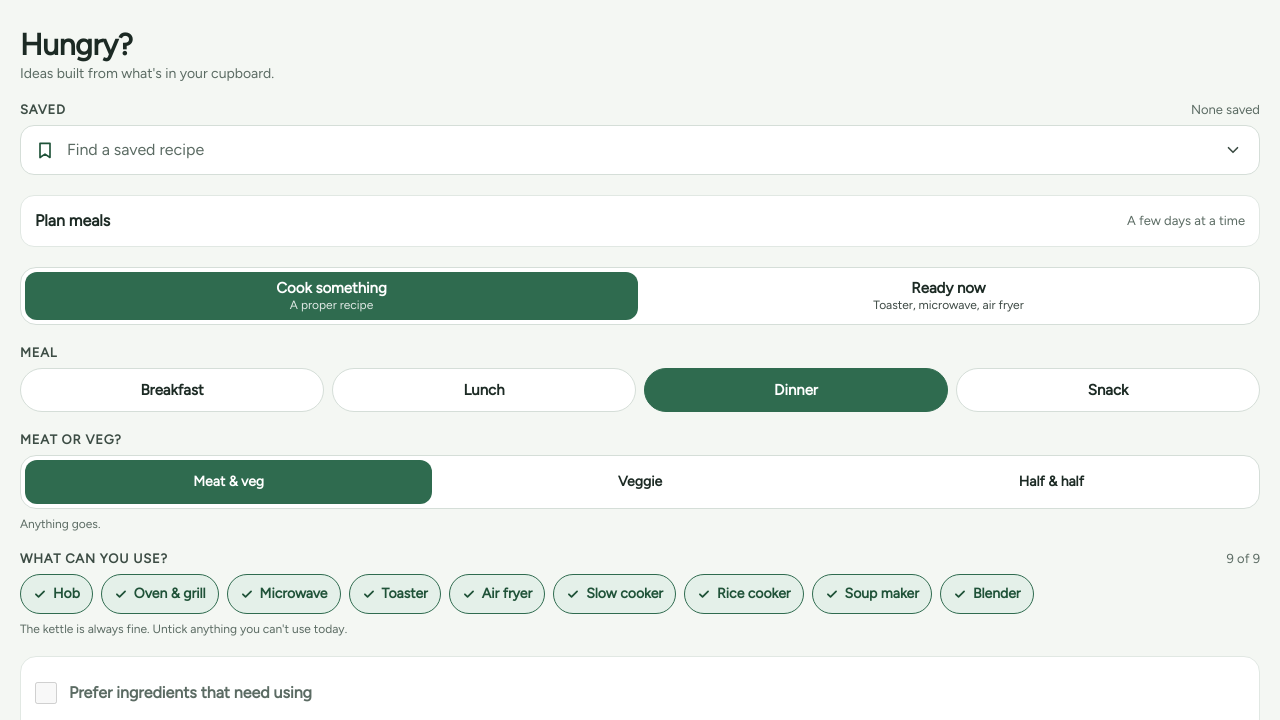
Test: Ready now ideas show the Air fryer tag, and the header names it
Click the radio button labelled "Ready now Toaster, microwave, air fryer": (948, 296) [642,272,1255,320]
(page scrolled)
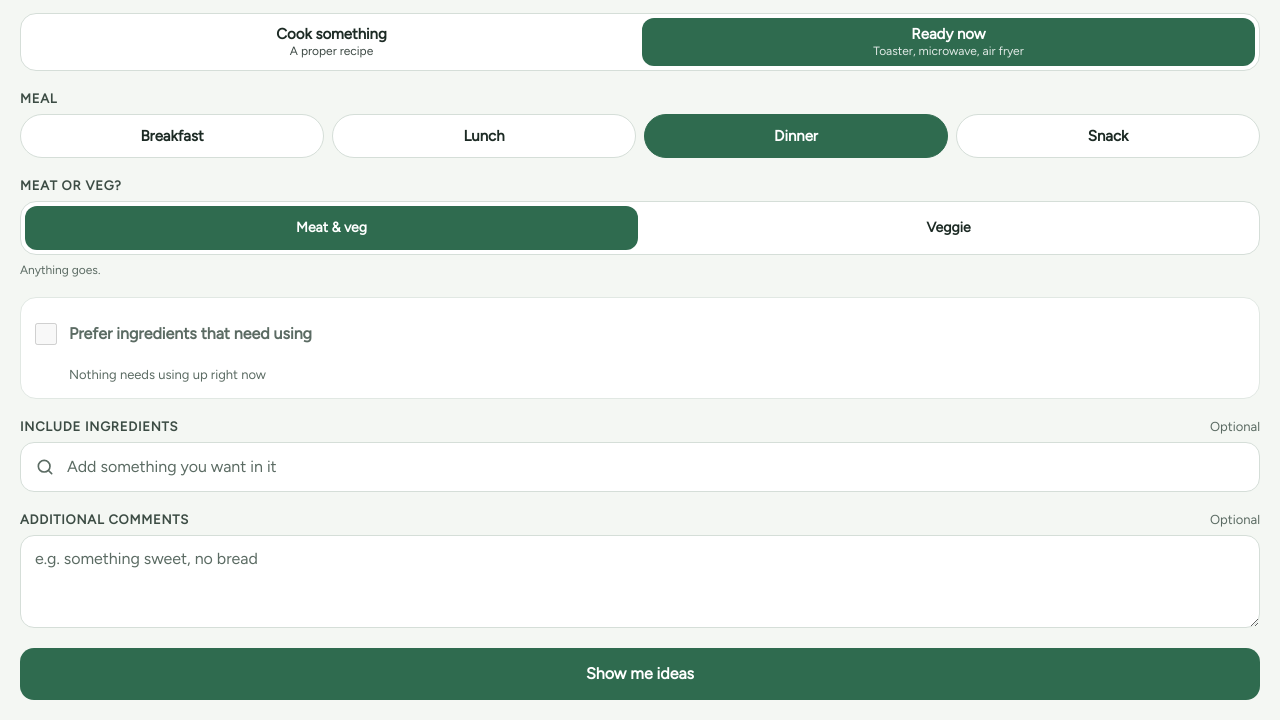
Click the button "Show me ideas": (640, 674) [20,648,1260,700]
(page scrolled)
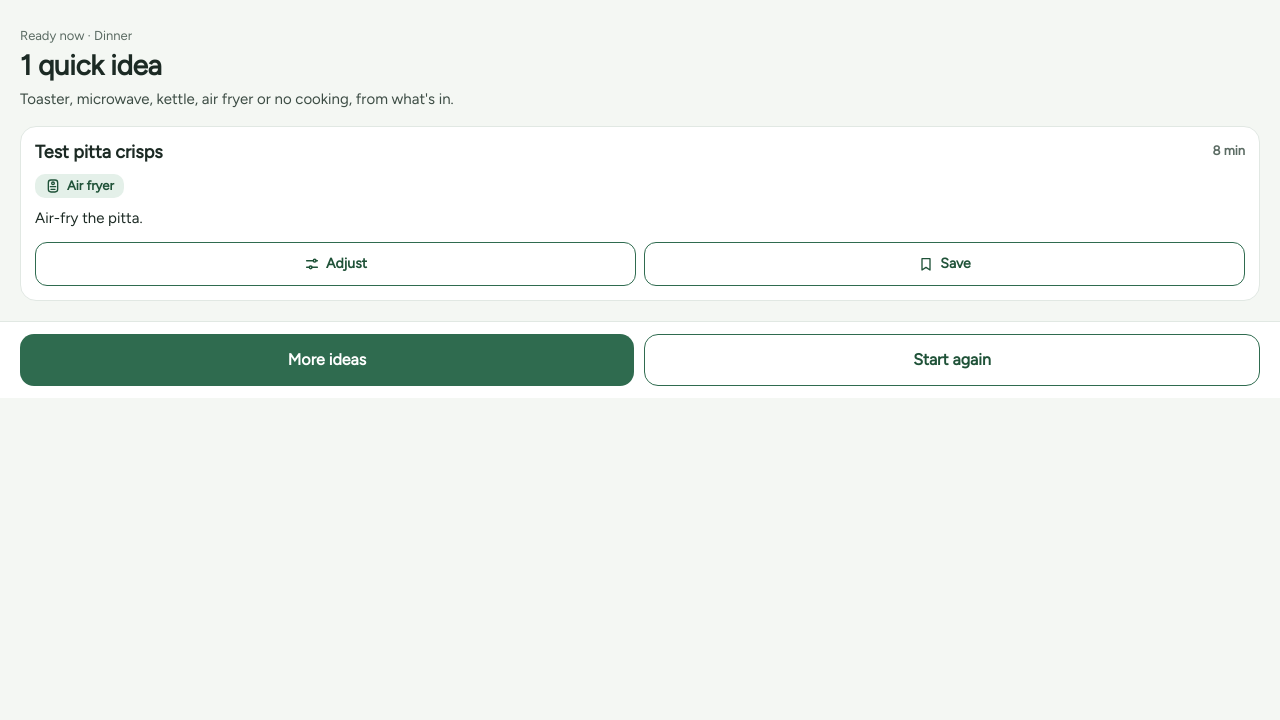
Now the text "Air fryer" is shown, box [35,174,124,198]
Now the text "Toaster, microwave, kettle, air fryer or no cooking" is shown, box [20,90,454,108]
